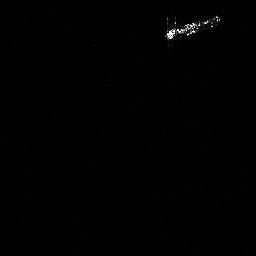ship: (164, 13, 222, 43)
